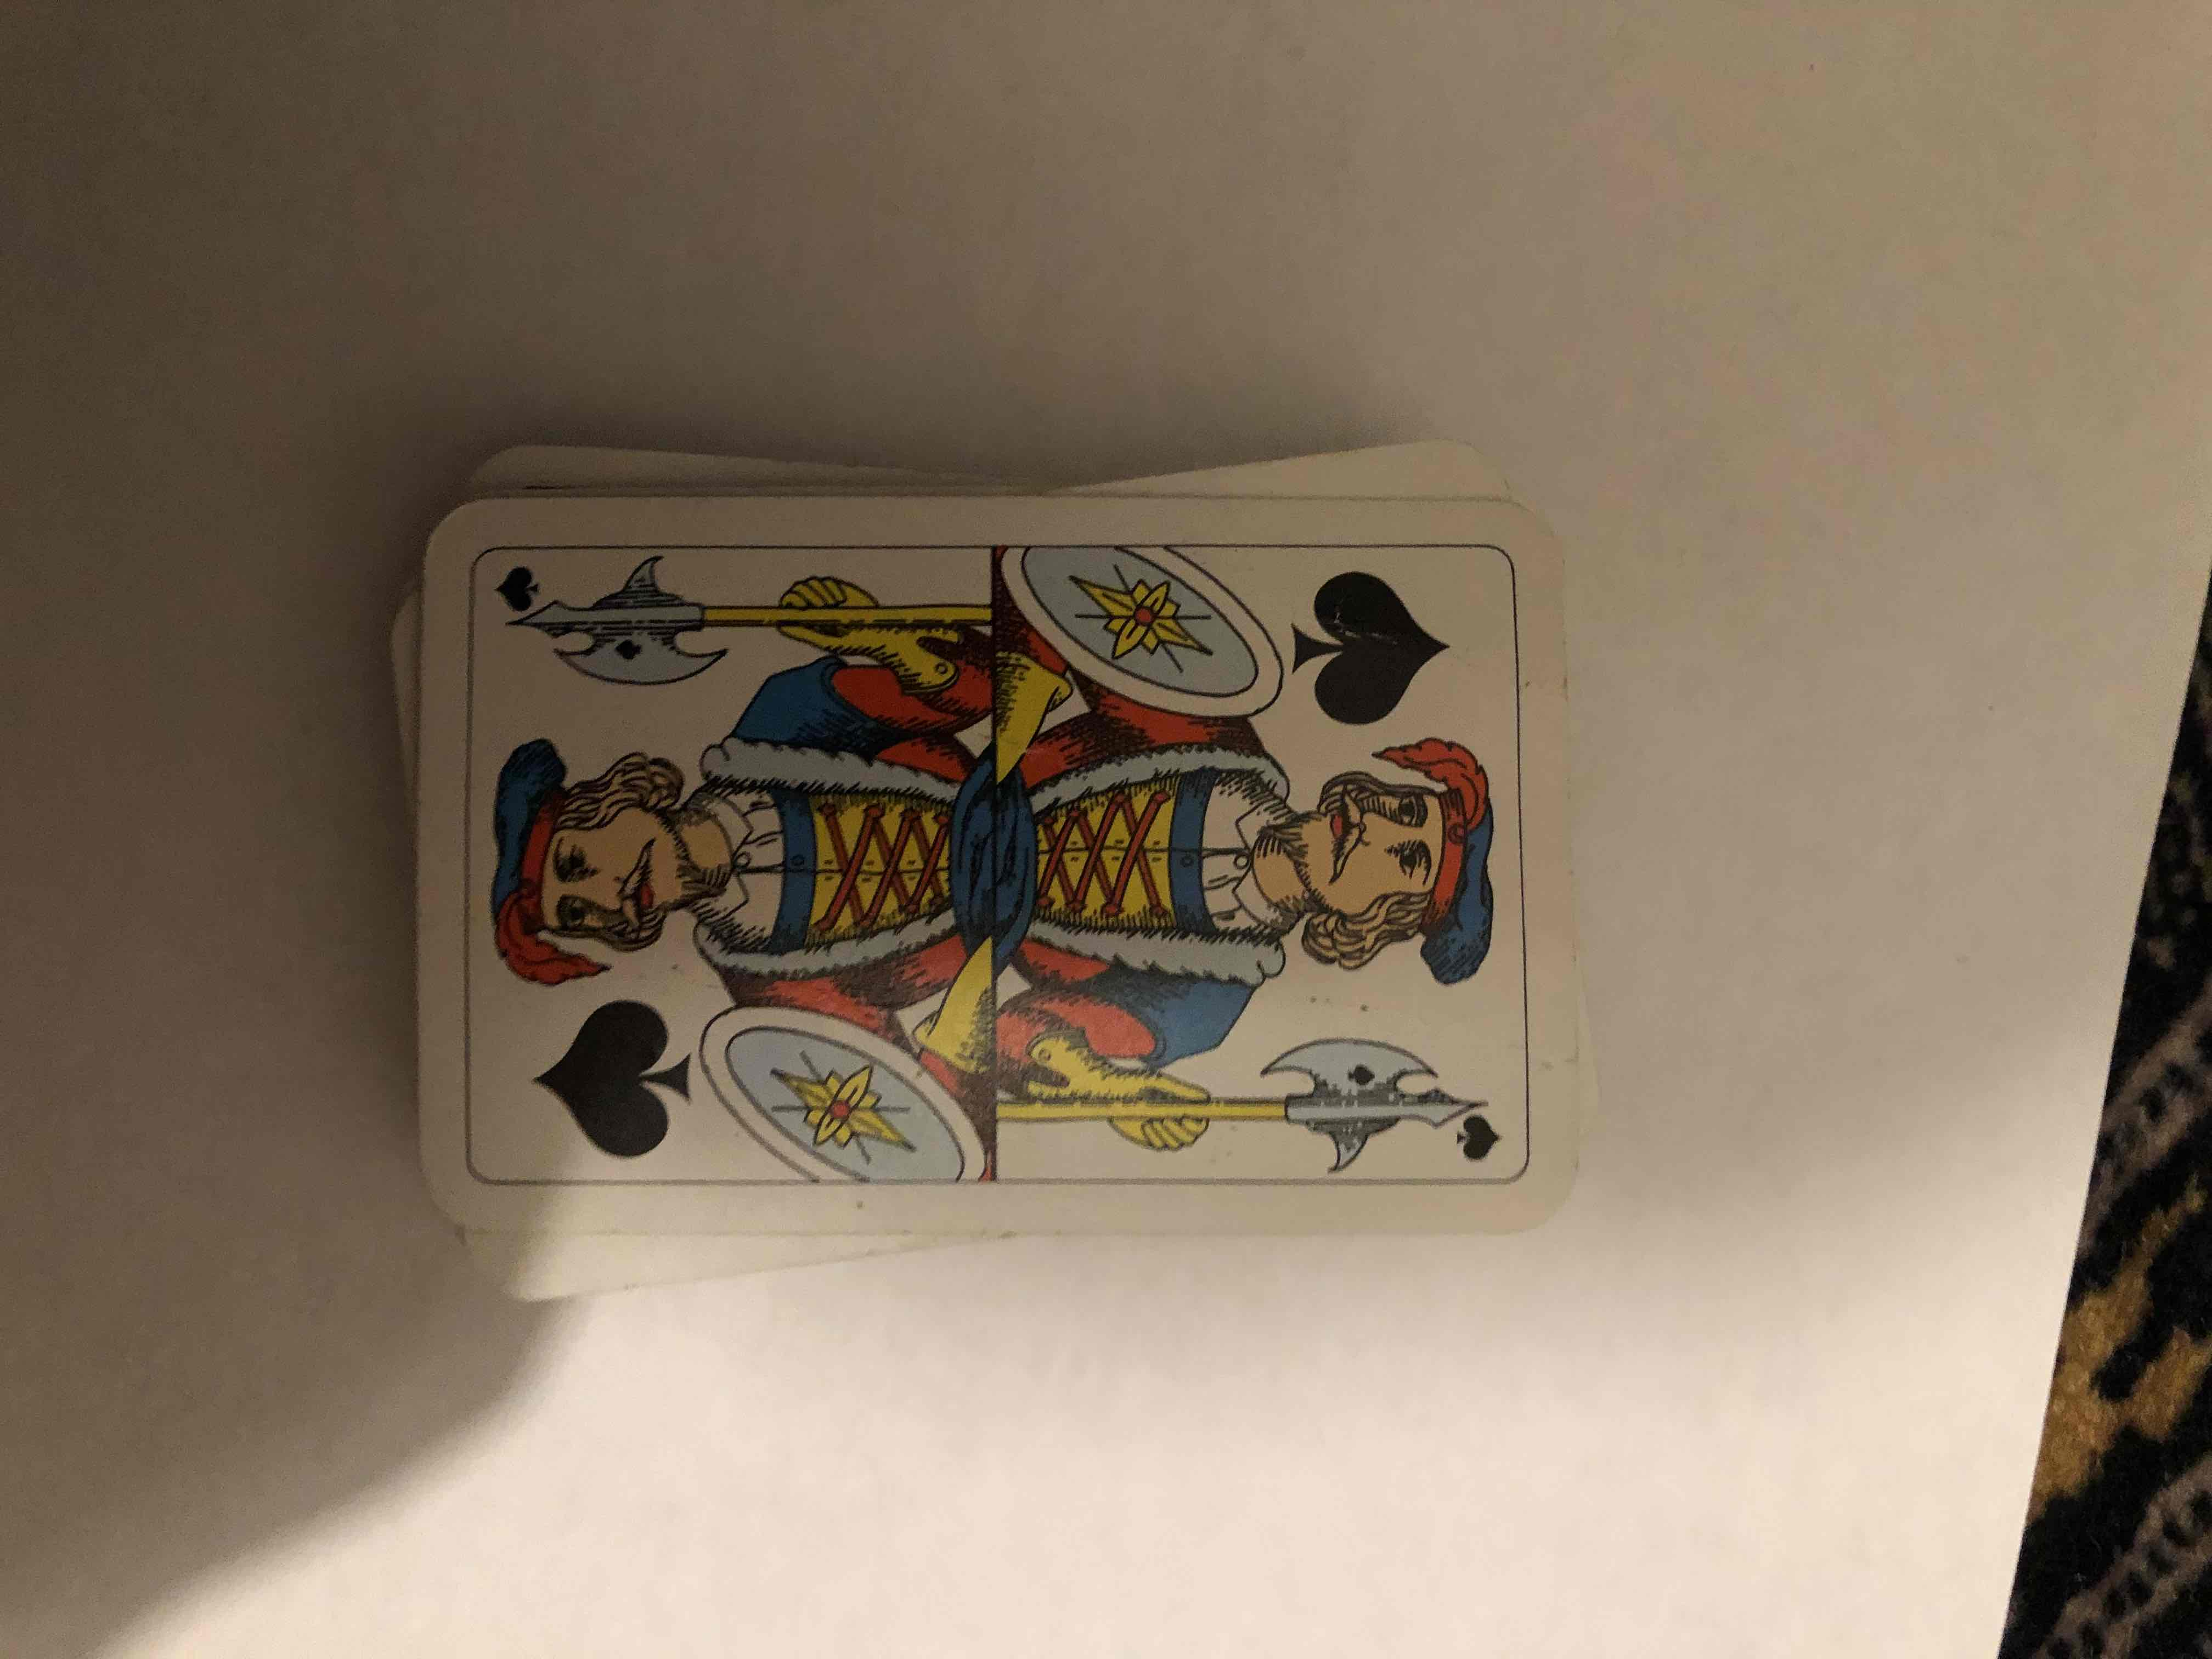spadesJack: (444, 455, 1606, 1255)
